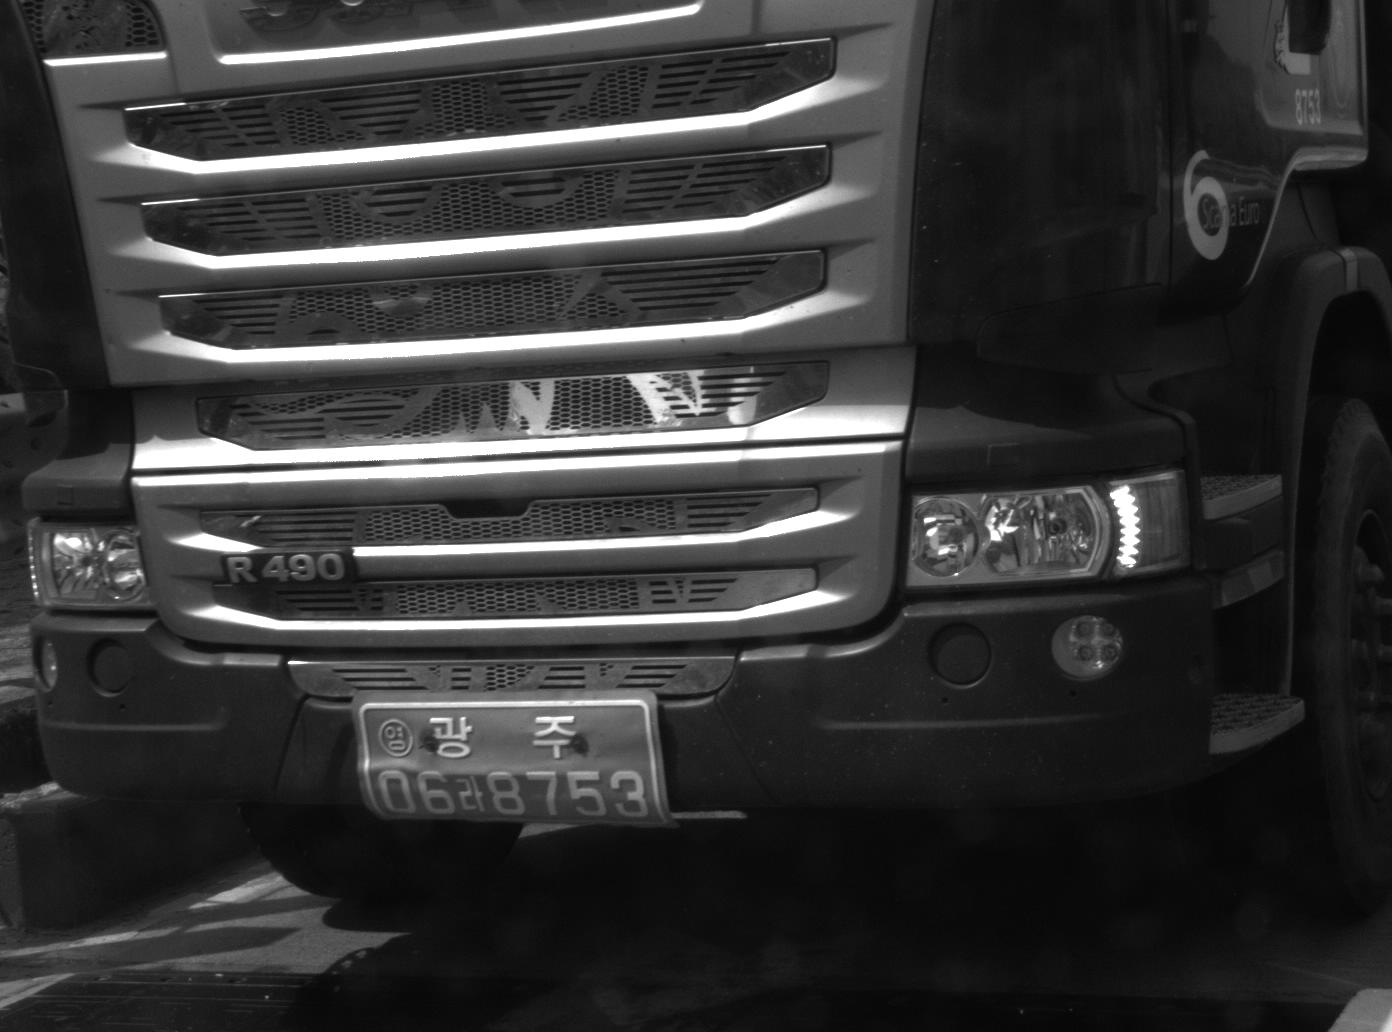car: (1, 1, 1389, 909)
plate: (348, 685, 685, 834)
